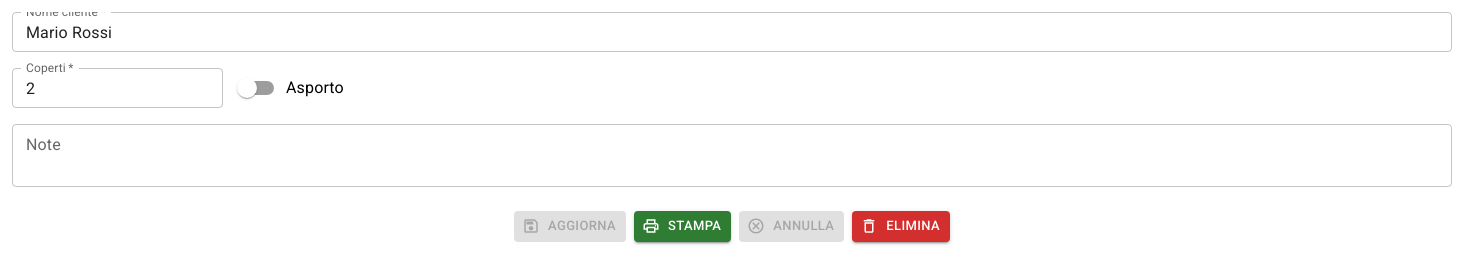
it: OrderEditForm buttons › abilita Aggiorna e Annulla e disabilita Stampa quando un ordine salvato cambia
Replace the text in the field labelled "Nome cliente" with "Luigi Bianchi": (732, 32) [12,12,1452,52]
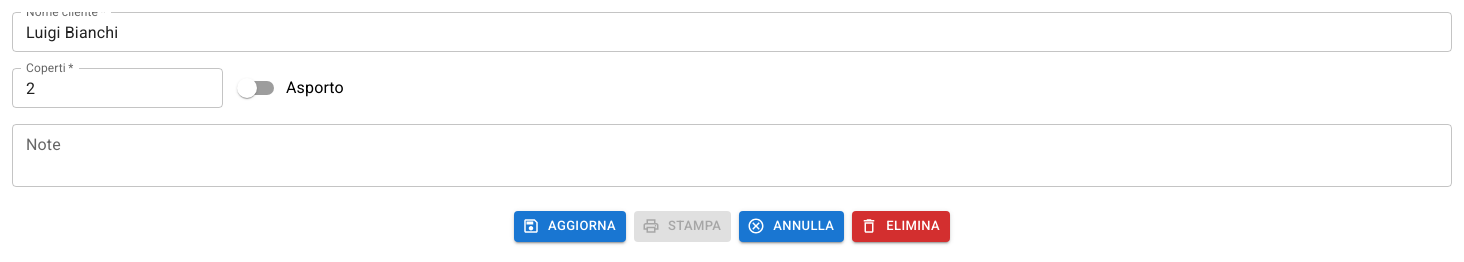
Check: the button "Aggiorna" is enabled, box [514,211,626,242]
Check: the button "Stampa" is disabled, box [634,211,731,242]
Check: the button "Annulla" is enabled, box [739,211,844,242]
